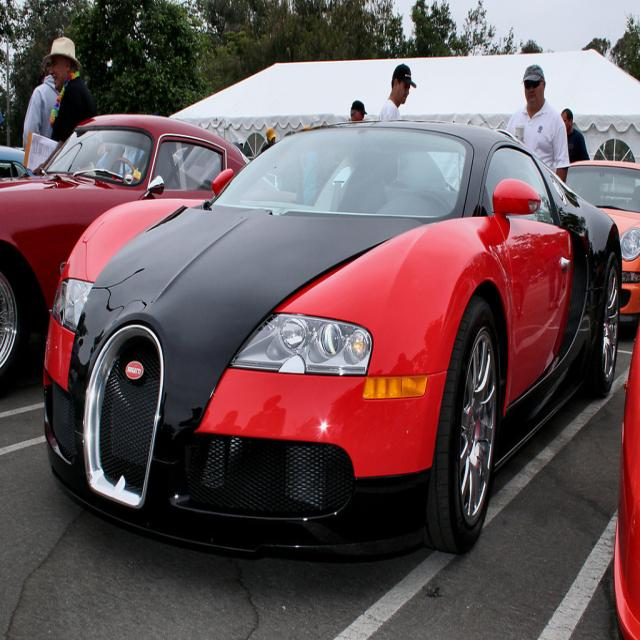car: (44, 118, 625, 563)
